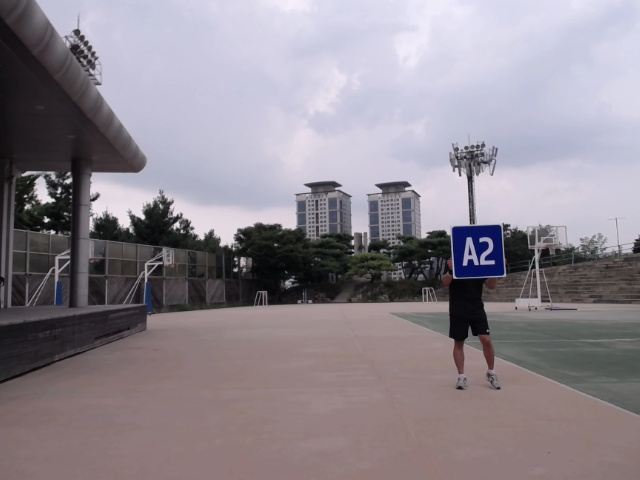delivery_a2: (452, 224, 505, 278)
